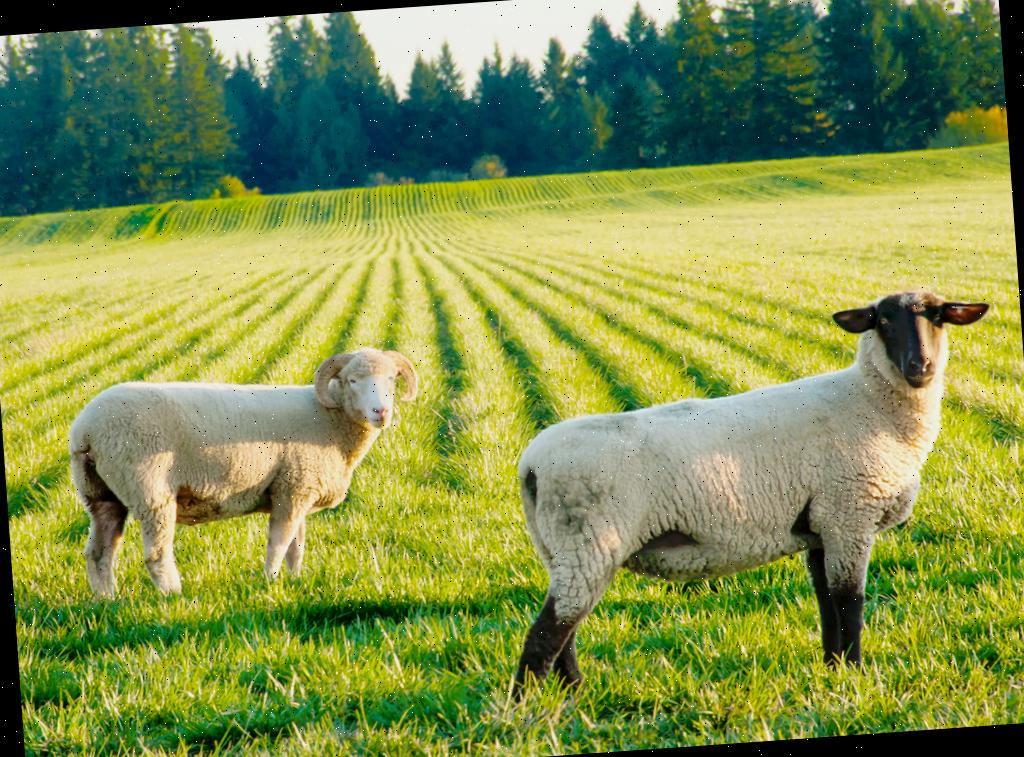Sheep: (482, 284, 1018, 706), (66, 340, 430, 600)
